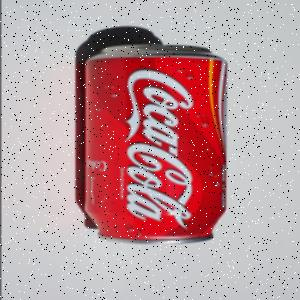Can: (83, 45, 231, 247)
